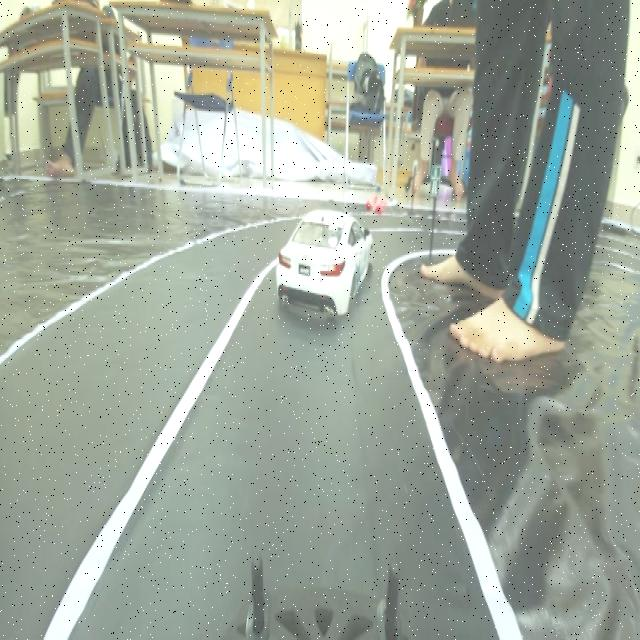car: (273, 190, 374, 338)
highway_entry: (424, 159, 445, 199)
